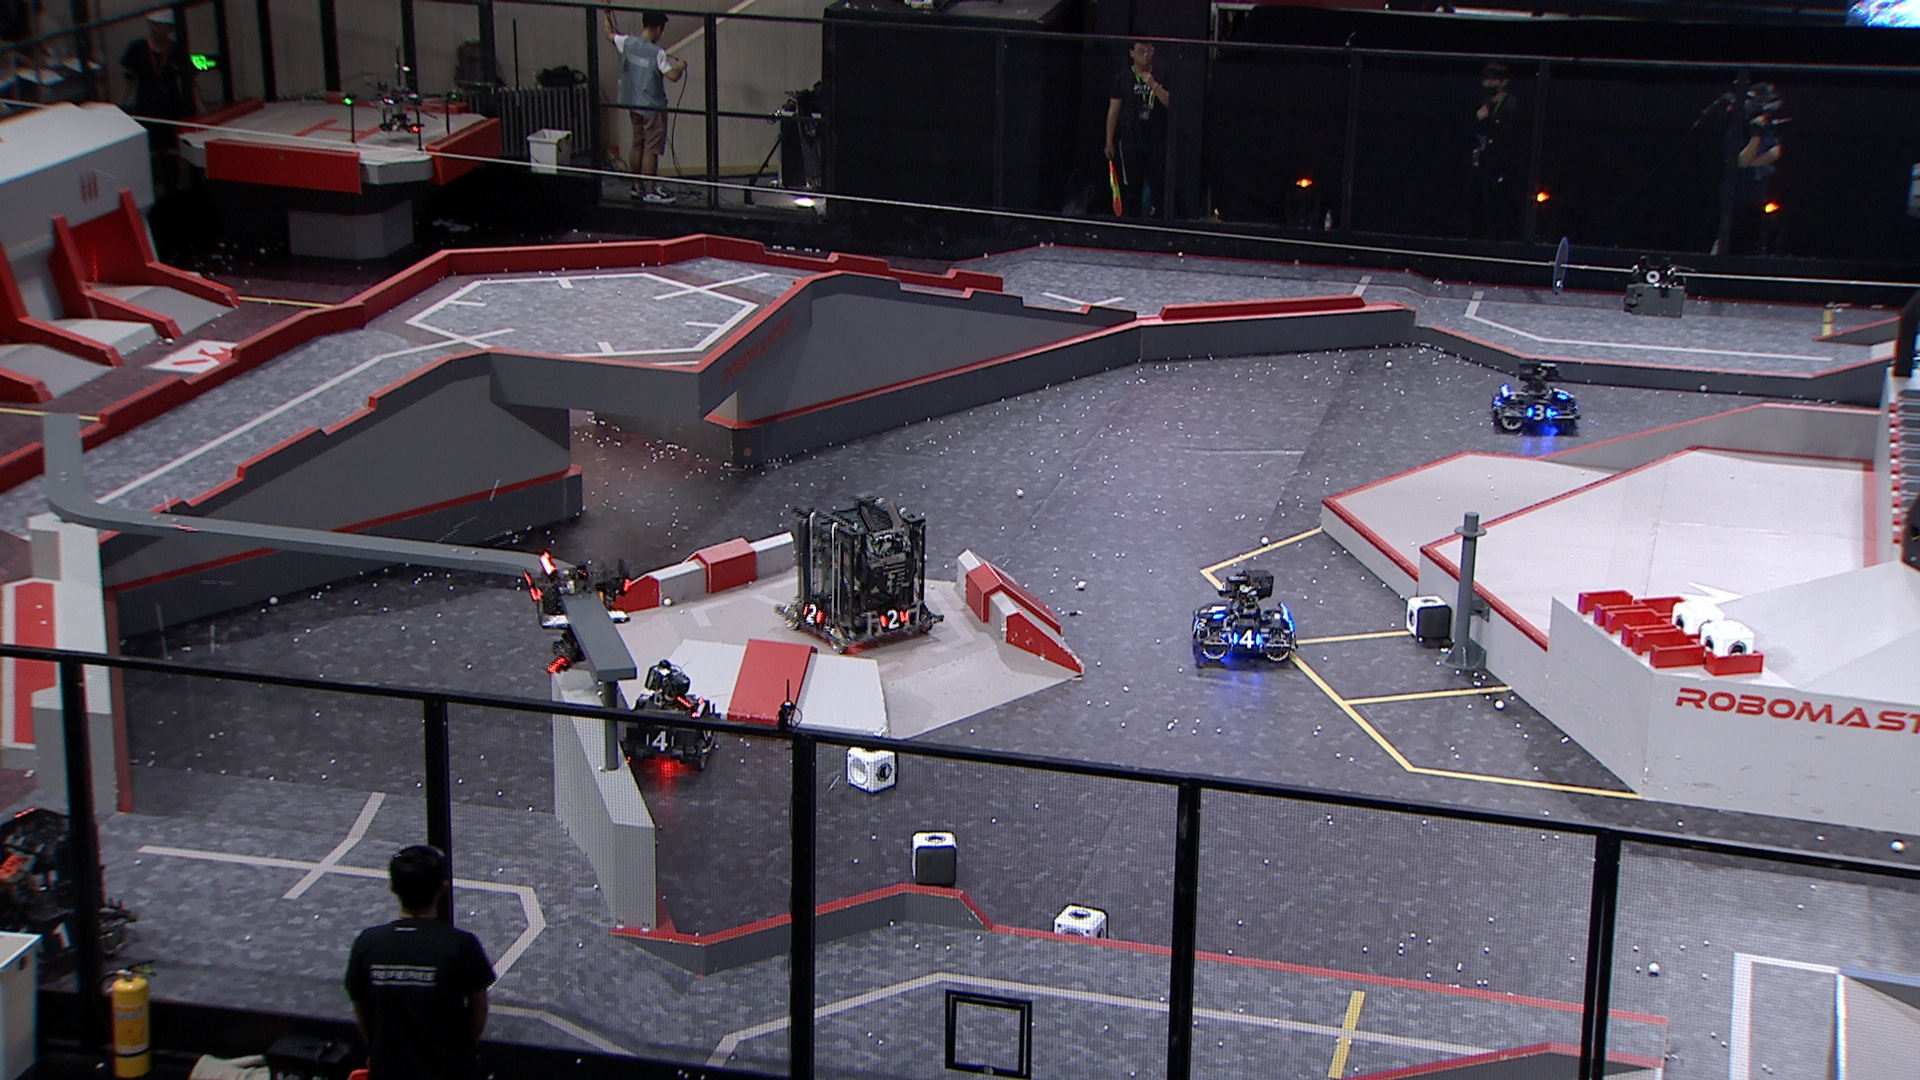armor: (36, 924, 78, 953), (1229, 626, 1265, 650), (645, 731, 678, 756), (880, 608, 909, 632), (1524, 404, 1556, 423), (802, 603, 825, 628), (1204, 603, 1229, 622), (1553, 385, 1575, 404), (1490, 396, 1506, 413), (1192, 617, 1205, 637)
car: (773, 491, 945, 657), (618, 659, 721, 773), (1191, 568, 1299, 665), (1490, 360, 1584, 434)
watcher: (522, 546, 632, 674)
